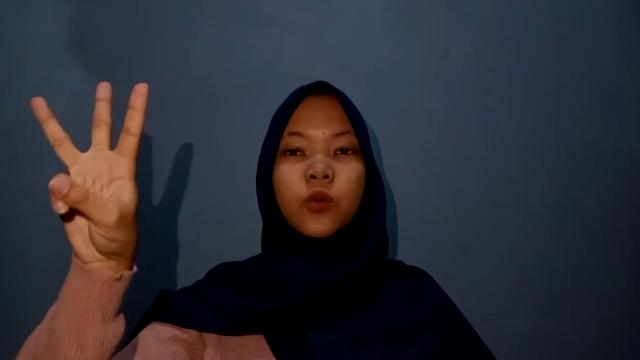W: (28, 78, 148, 268)
